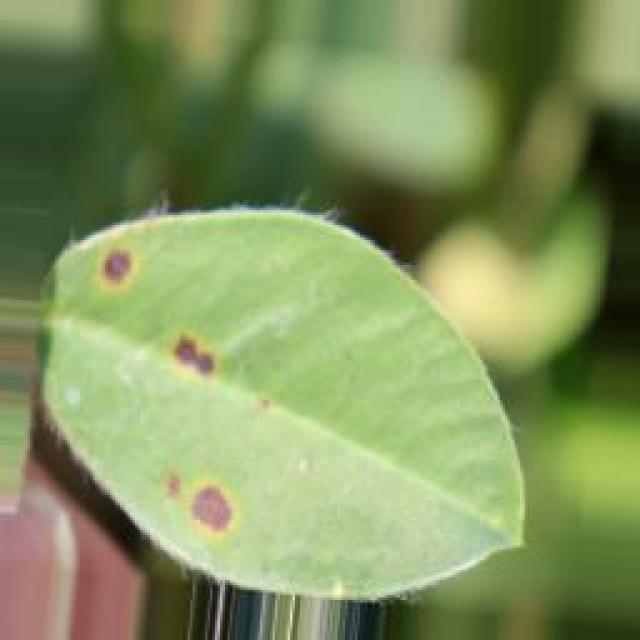Sigatoka: (142, 456, 248, 553), (152, 326, 222, 394), (96, 247, 152, 320)
